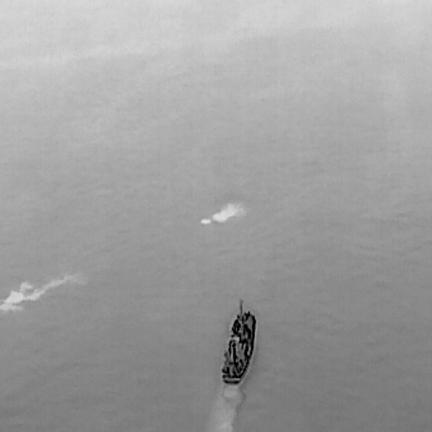flukeprints: (211, 203, 244, 223), (0, 291, 24, 309), (24, 288, 49, 300), (200, 219, 211, 224)
